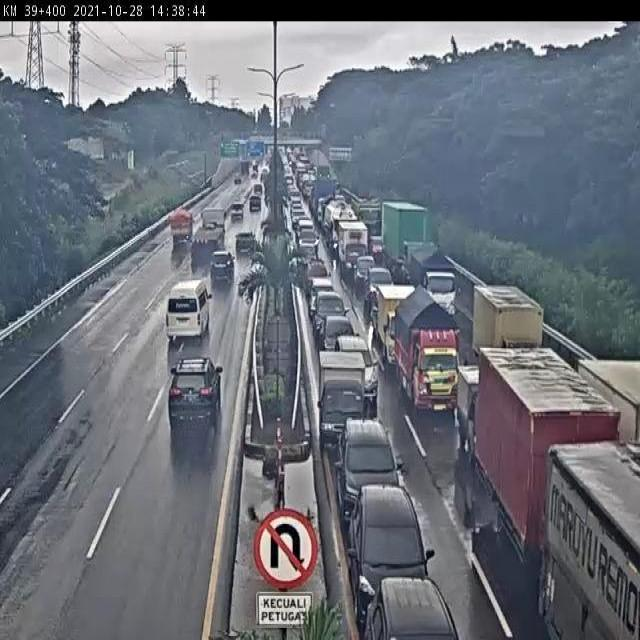big truck: (479, 345, 626, 595), (188, 208, 228, 261)
car: (349, 486, 436, 618), (335, 418, 399, 530), (363, 577, 460, 640), (168, 355, 223, 433), (335, 336, 380, 403), (165, 280, 210, 343), (319, 315, 360, 369), (312, 290, 350, 342), (367, 265, 395, 308), (309, 276, 334, 316), (209, 251, 235, 288), (355, 255, 376, 288), (235, 231, 257, 257), (229, 202, 244, 222)
small truck: (393, 287, 462, 416), (472, 285, 542, 395), (458, 365, 521, 468), (317, 348, 369, 449), (377, 283, 420, 369), (380, 201, 426, 280), (409, 238, 451, 318), (339, 220, 369, 276), (167, 210, 191, 250)
